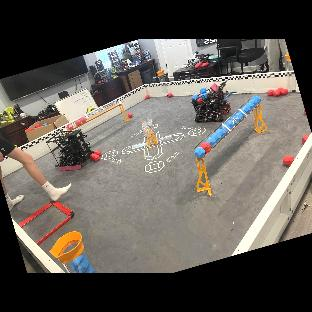V5_BLUE: (197, 85, 210, 96), (202, 90, 210, 100), (41, 121, 49, 129), (191, 93, 198, 100)
V5_RED: (280, 152, 297, 168), (280, 88, 290, 97), (94, 148, 103, 156), (93, 154, 102, 162), (126, 111, 135, 119), (88, 153, 96, 161), (272, 90, 281, 97), (266, 89, 274, 96), (196, 97, 203, 104), (144, 93, 151, 100), (34, 123, 41, 129), (167, 92, 173, 98), (277, 86, 283, 91)
blueingoal: (194, 146, 206, 159), (215, 127, 226, 139), (221, 122, 232, 134), (207, 137, 217, 147), (225, 119, 234, 128), (252, 94, 262, 102), (242, 105, 251, 113), (246, 101, 254, 110), (231, 115, 238, 125), (235, 112, 243, 120), (250, 99, 257, 106), (239, 109, 245, 117)
redingoal: (200, 139, 212, 153), (66, 122, 75, 131), (74, 118, 81, 127), (80, 115, 87, 123)
